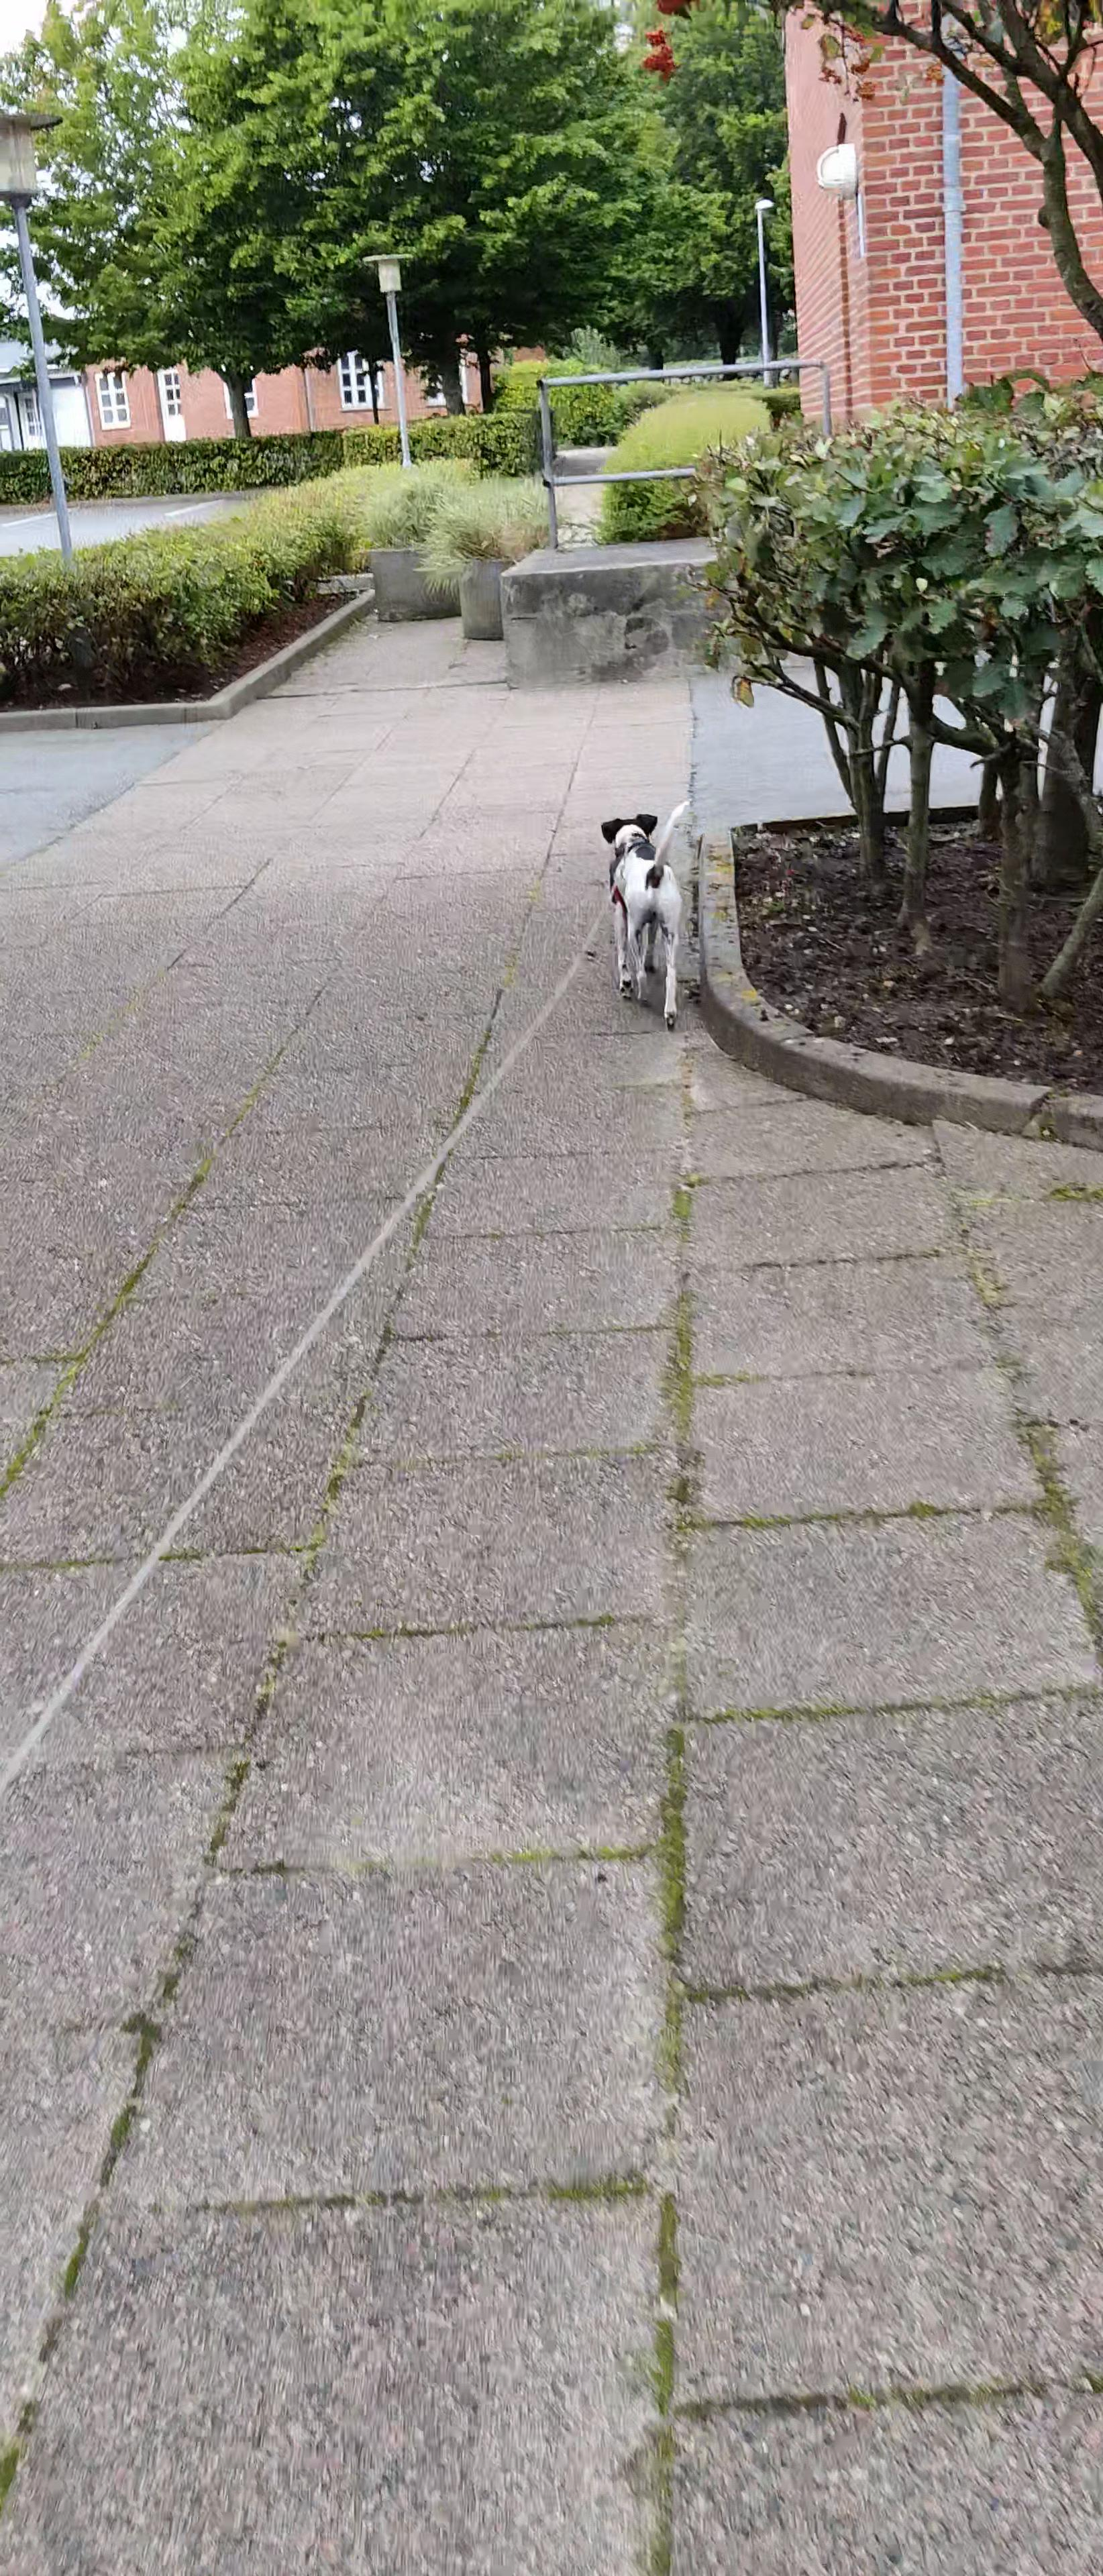Dog: (595, 793, 694, 1032)
